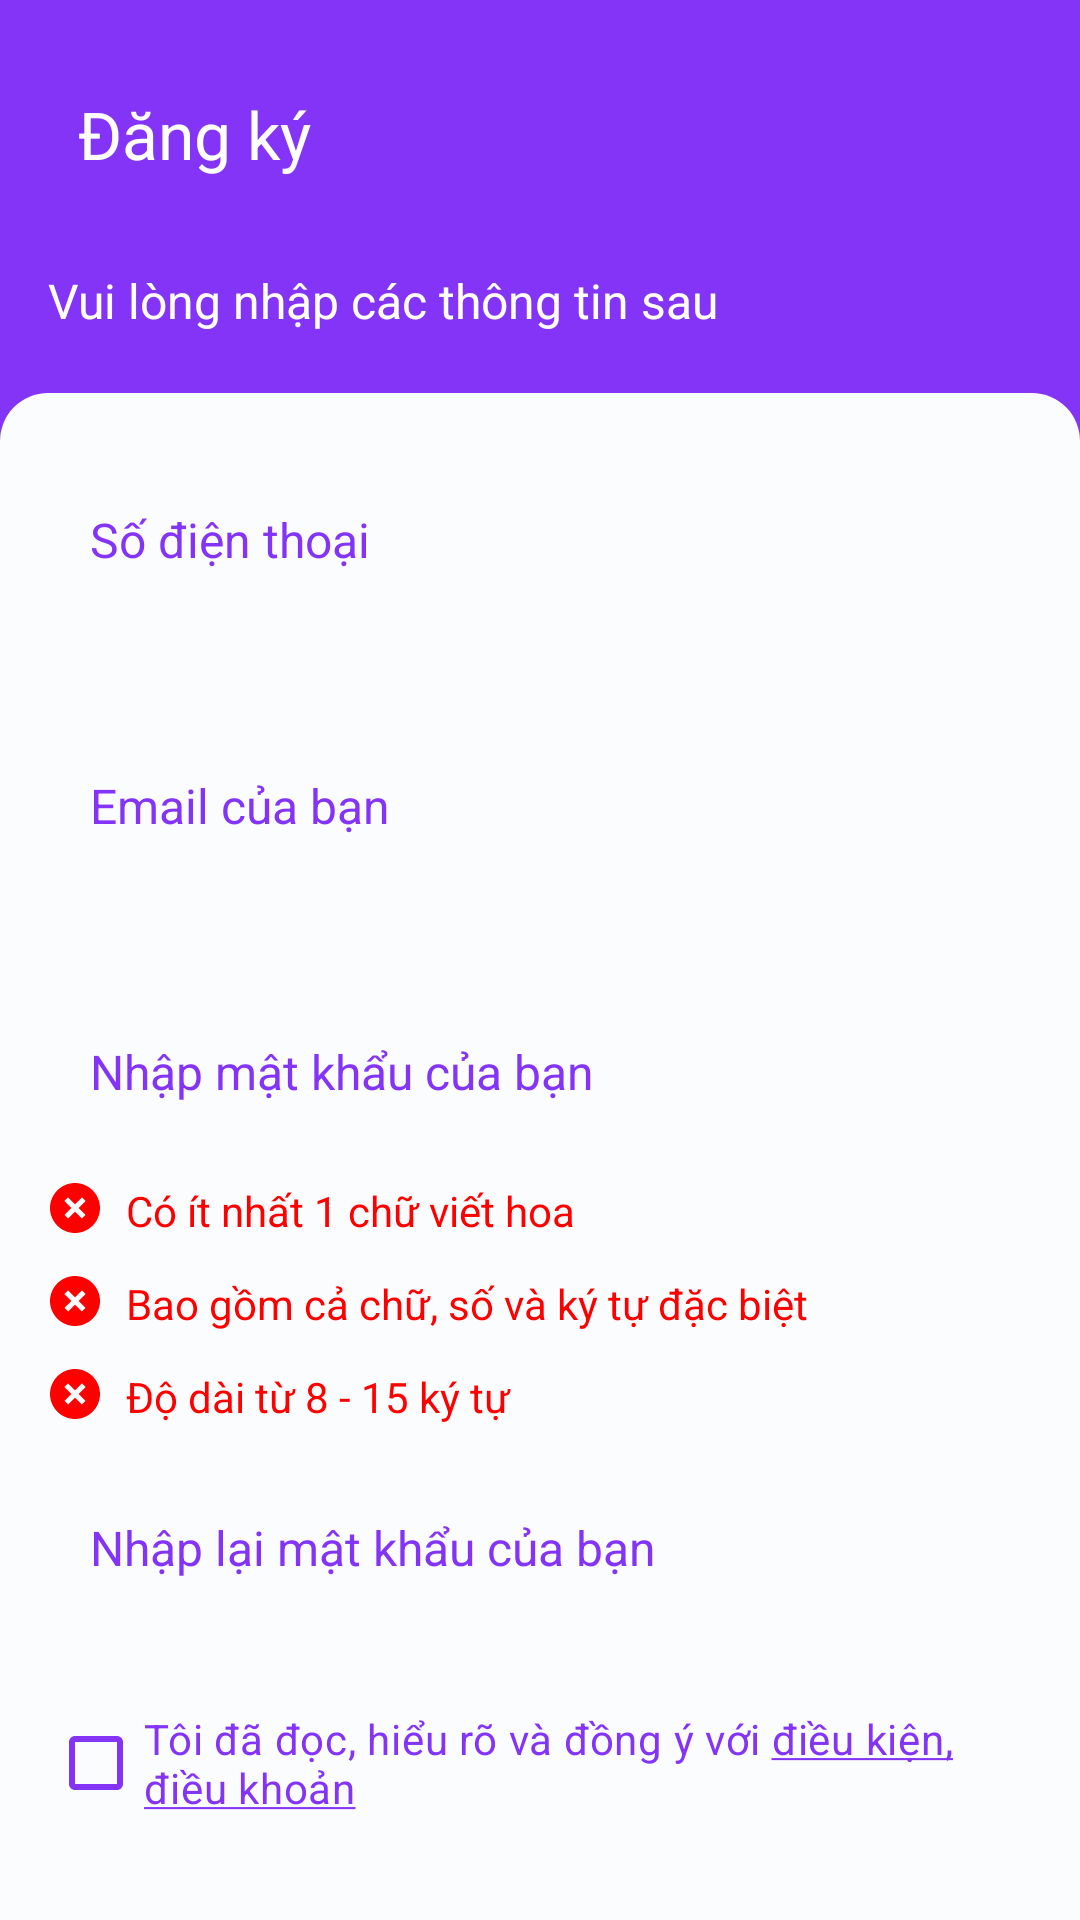

Where icons sit on this 1080px×1920px app screen, as bbox=(x1, y1, x2, y2):
check register false: bbox=(50, 1183, 100, 1233), bbox=(50, 1276, 100, 1326), bbox=(50, 1369, 100, 1419)
